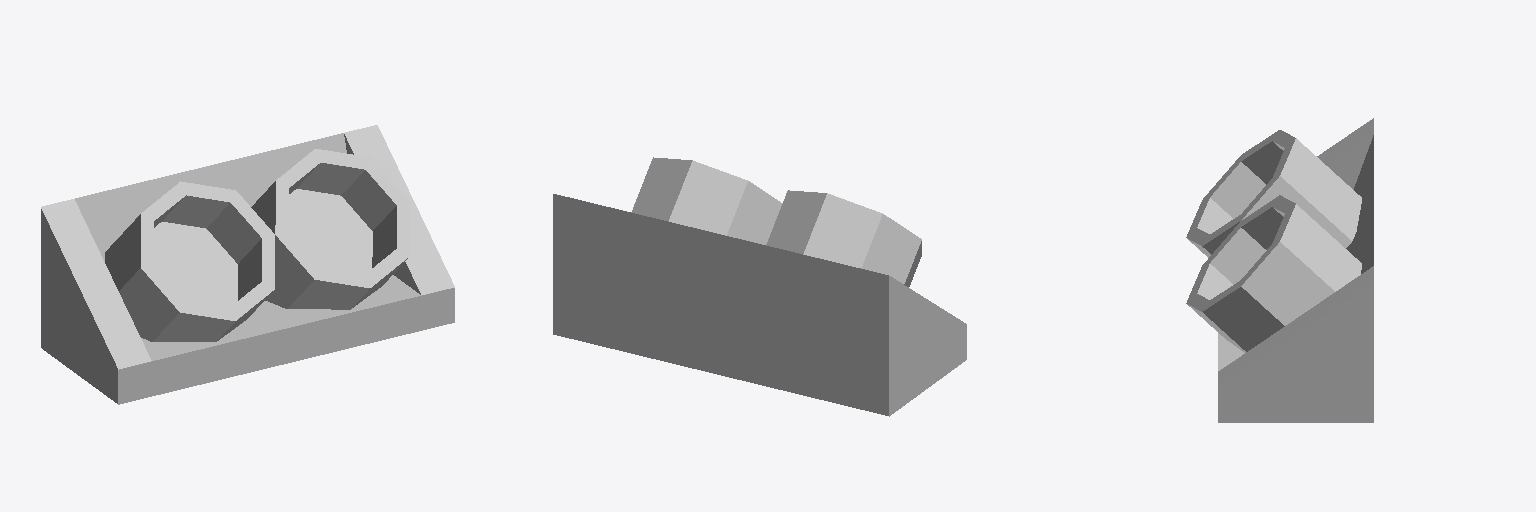
The model's file is Cannons.obj.
3 views of the same model, side by side, from view 1: azimuth 30°, elevation 25°; view 2: azimuth 150°, elevation 25°; view 3: azimuth 270°, elevation 25° (orthographic).
Parts seen in each view (by area): view 1: cube1, cylinder2_copy3, cylinder2; view 2: cube1, cylinder2_copy3, cylinder2; view 3: cube1, cylinder2, cylinder2_copy3.
Part boxes in pixels (left/top/right/bottom): cube1: left=41, top=125, right=454, bottom=404; cylinder2_copy3: left=105, top=181, right=274, bottom=341; cylinder2: left=251, top=149, right=409, bottom=309; cube1: left=553, top=194, right=966, bottom=416; cylinder2_copy3: left=766, top=190, right=921, bottom=286; cylinder2: left=631, top=157, right=782, bottom=244; cube1: left=1218, top=118, right=1373, bottom=422; cylinder2: left=1186, top=195, right=1361, bottom=352; cylinder2_copy3: left=1186, top=130, right=1361, bottom=257.
Bounding box in the file's own units: 5 × 2.41 × 2.41.